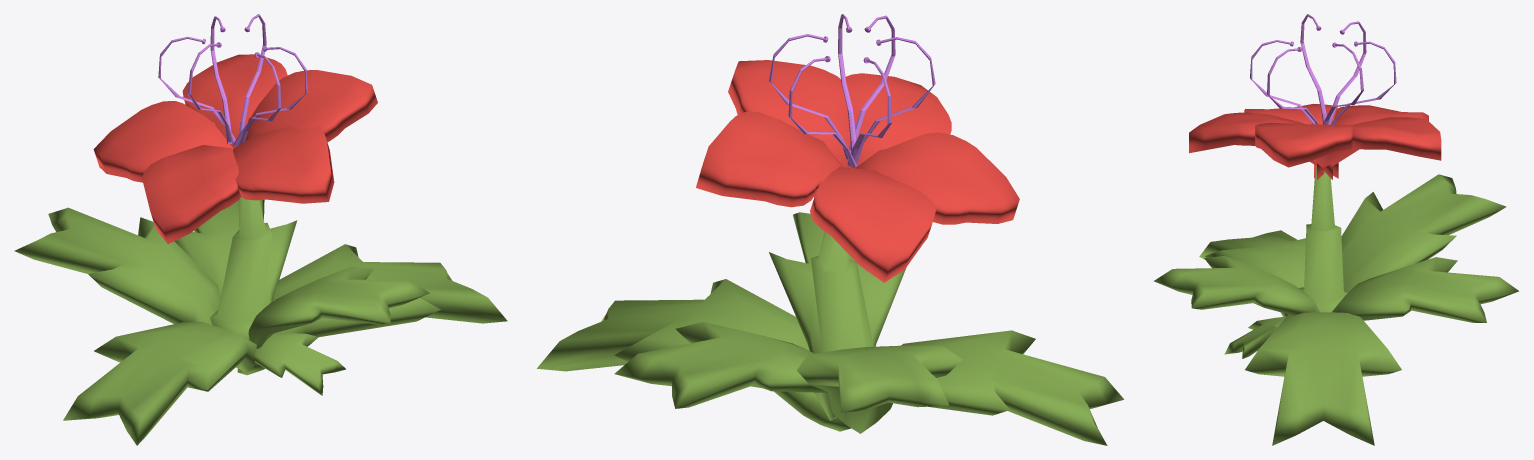
Rendered from planta pistilos.fbx.
3 views of the same model, side by side, from view 1: azimuth 30°, elevation 25°; view 2: azimuth 150°, elevation 25°; view 3: azimuth 270°, elevation 25° (orthographic). The views are drawn at different scales.
Visible parts, largest first — view 1: Cylinder.019, Cube.011, Cylinder.024; view 2: Cylinder.019, Cube.011, Cylinder.024; view 3: Cylinder.019, Cube.011, Cylinder.024.
Part boxes in pixels (box(x1,y1,x2,y2)): Cylinder.019: box(14, 197, 507, 445); Cube.011: box(93, 54, 377, 243); Cylinder.024: box(158, 14, 307, 146); Cylinder.019: box(537, 212, 1123, 445); Cube.011: box(696, 60, 1019, 282); Cylinder.024: box(769, 14, 935, 167); Cylinder.019: box(1153, 167, 1518, 445); Cube.011: box(1189, 103, 1441, 179); Cylinder.024: box(1250, 14, 1396, 124).
Size of the model in its own units: 1075 by 806 by 836.
